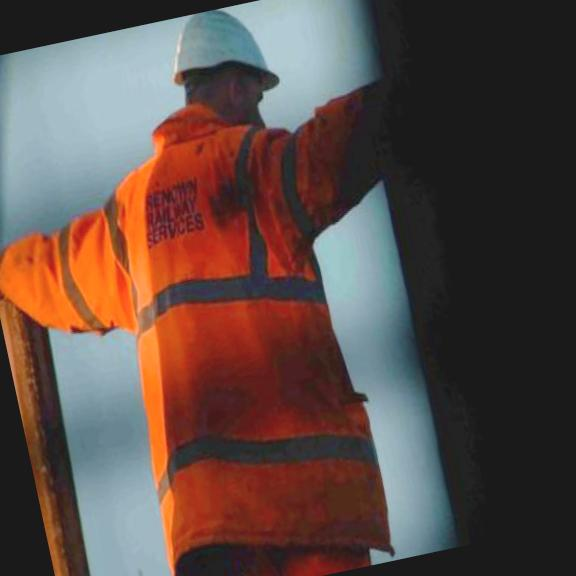safety_vest: (0, 78, 461, 576)
